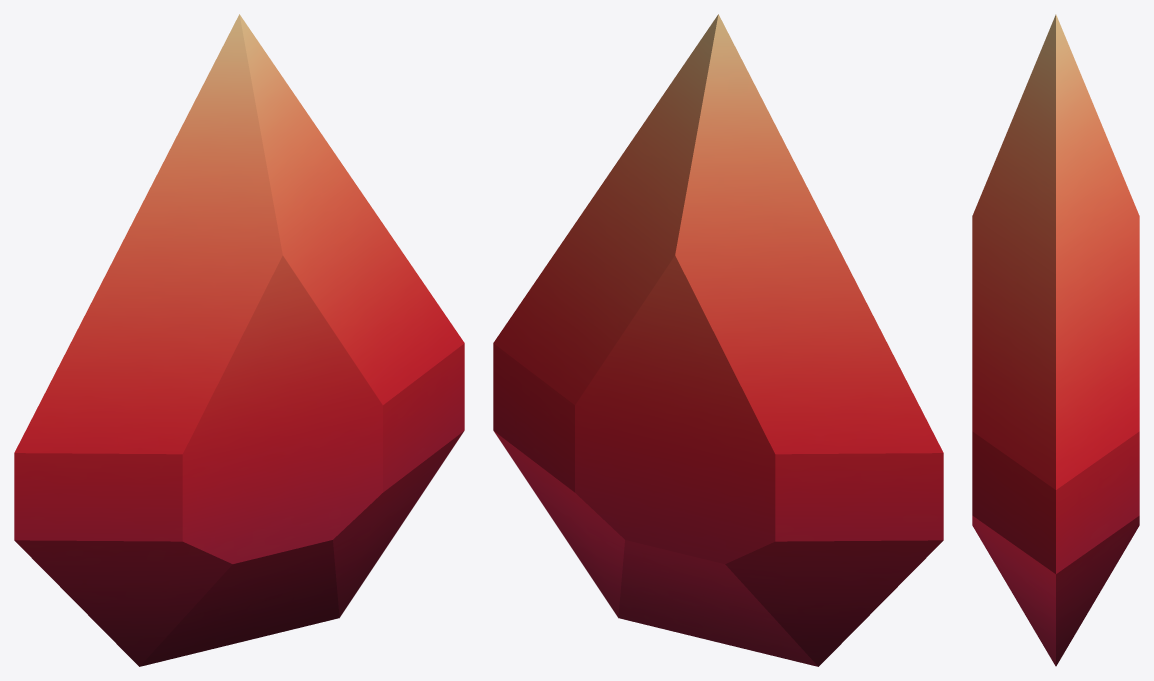
File: gems6.glb
The picture shows the model from 3 angles, left to right: view 1: azimuth 30°, elevation 25°; view 2: azimuth 150°, elevation 25°; view 3: azimuth 270°, elevation 25°; orthographic projection. The views are drawn at different scales.
Visible parts, largest first — view 1: Gem8; view 2: Gem8; view 3: Gem8.
Boxes of the visible parts, bbox=[...] form: Gem8: bbox=[14, 14, 464, 666]; Gem8: bbox=[493, 14, 943, 666]; Gem8: bbox=[972, 14, 1139, 666].
Size of the model in its own units: 0.75 by 1 by 0.25.
Materials: 1 (1 with a texture image).
